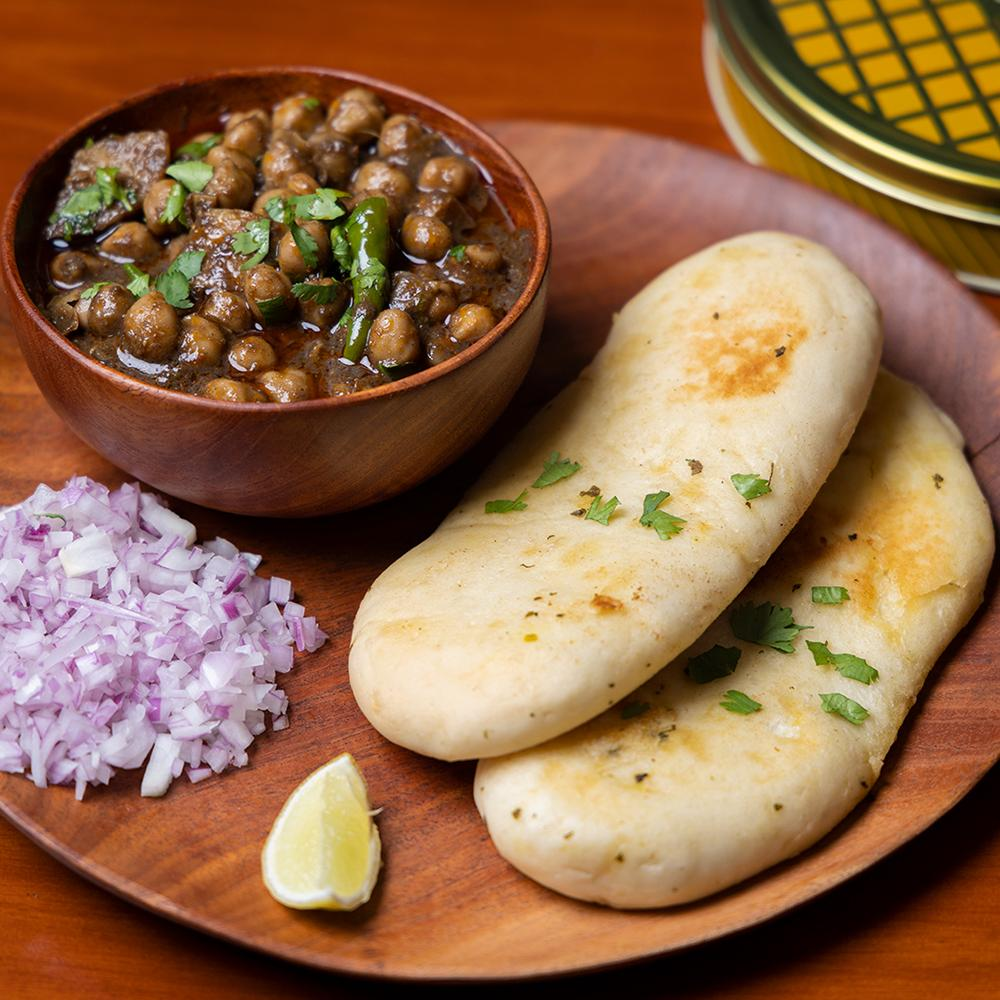chole: (86, 86, 490, 404)
salad: (0, 488, 264, 784)
